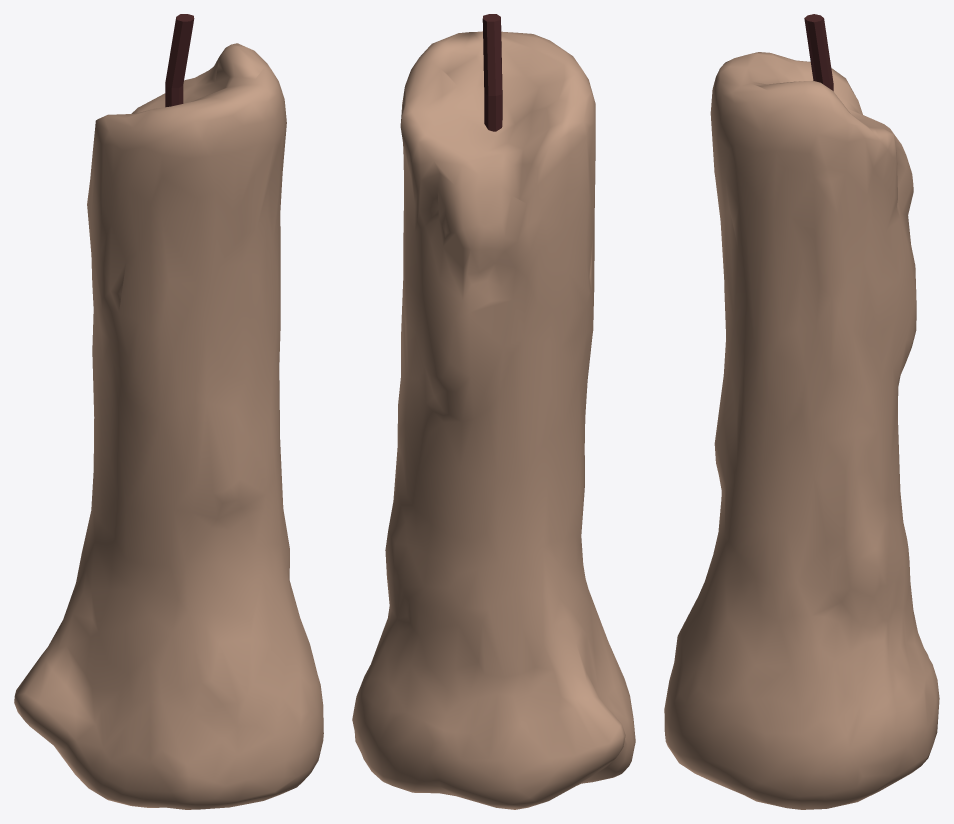
The model's file is candle2.fbx.
3 views of the same model, side by side, from view 1: azimuth 30°, elevation 25°; view 2: azimuth 150°, elevation 25°; view 3: azimuth 270°, elevation 25° (orthographic). The views are drawn at different scales.
Visible parts, largest first — view 1: candle2; view 2: candle2; view 3: candle2.
Boxes of the visible parts, box(x1,y1,x2,y2) form: candle2: box(14, 14, 323, 809); candle2: box(352, 14, 635, 809); candle2: box(664, 14, 939, 809).
Bounding box in the file's own units: 12.78 × 34.42 × 11.53.
